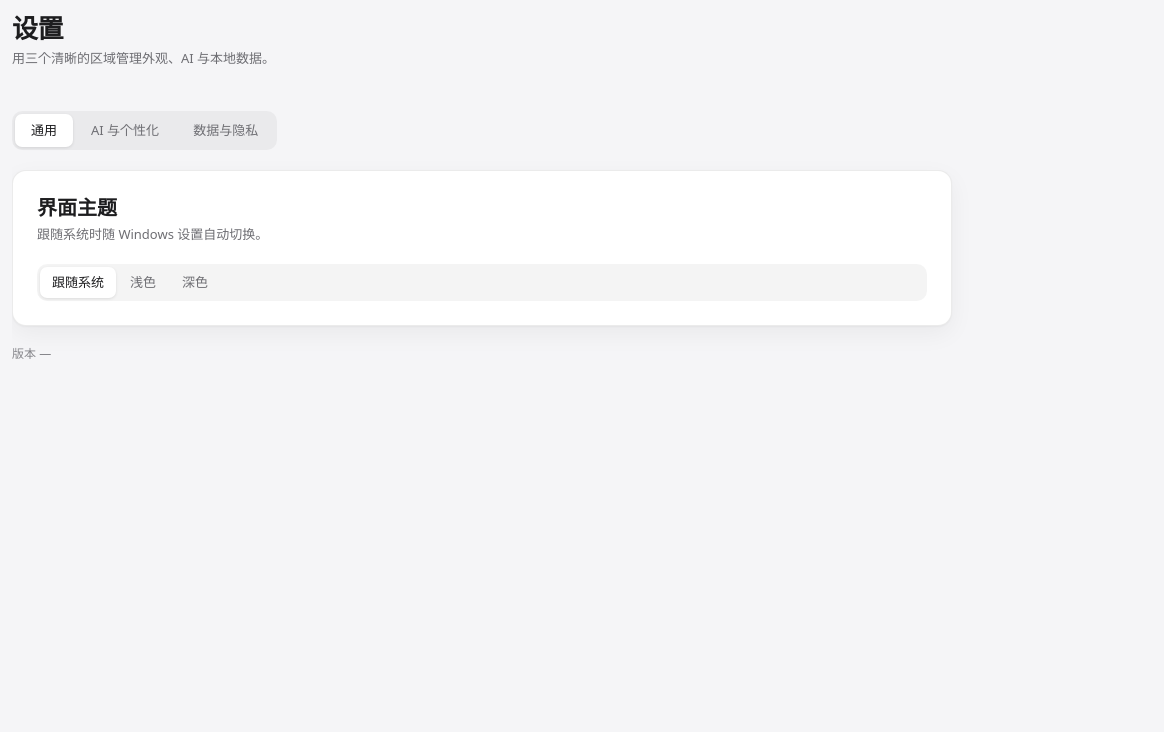
Test: SettingsPage › uses three internal tabs and opens on the general section
Expected: the heading "AI 服务" is not shown
Click the tab "AI 与个性化": [125, 131] box [75,114,175,147]
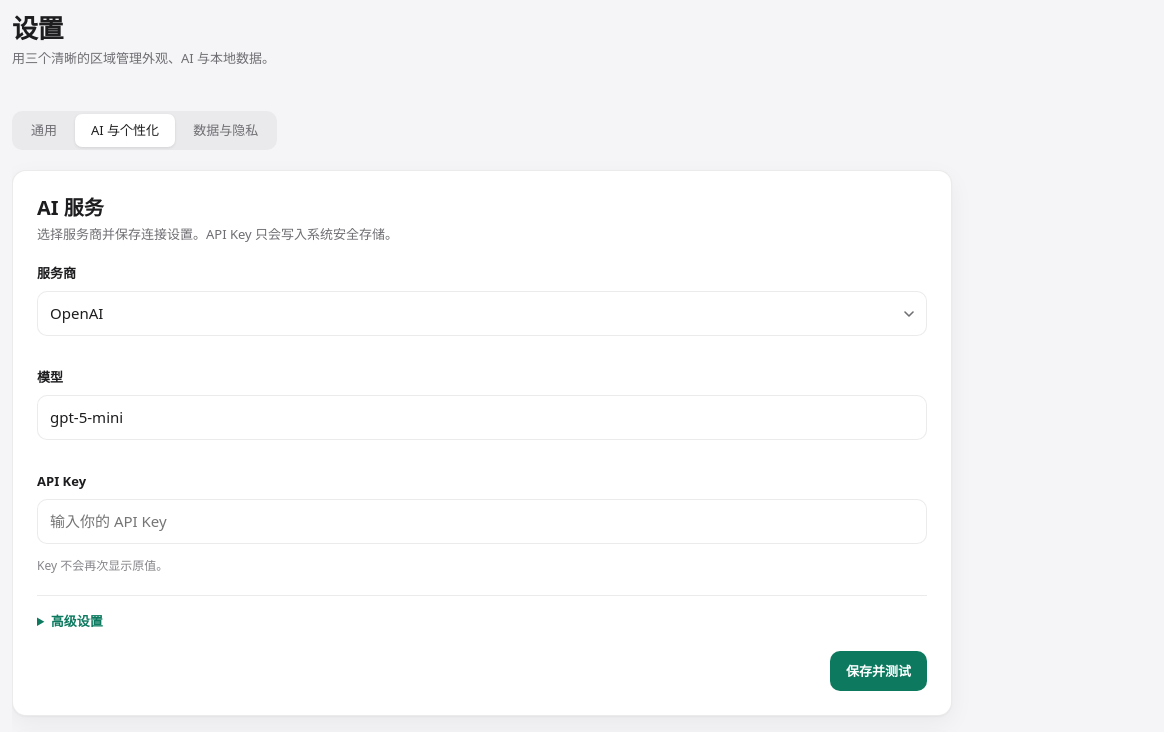
Expected: the heading "AI 服务" is shown, [37,194,104,221]
Click the tab "数据与隐私": [226, 131] box [177,114,274,147]
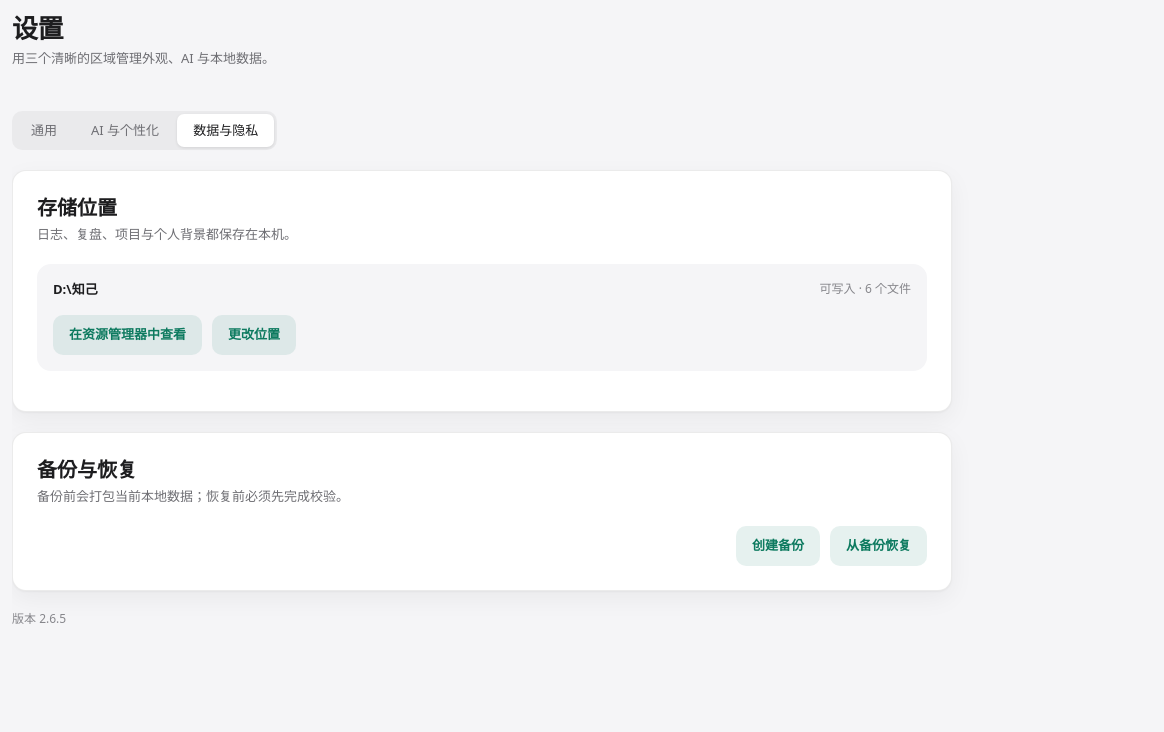
Expected: the heading "存储位置" is shown, [37,194,117,221]
